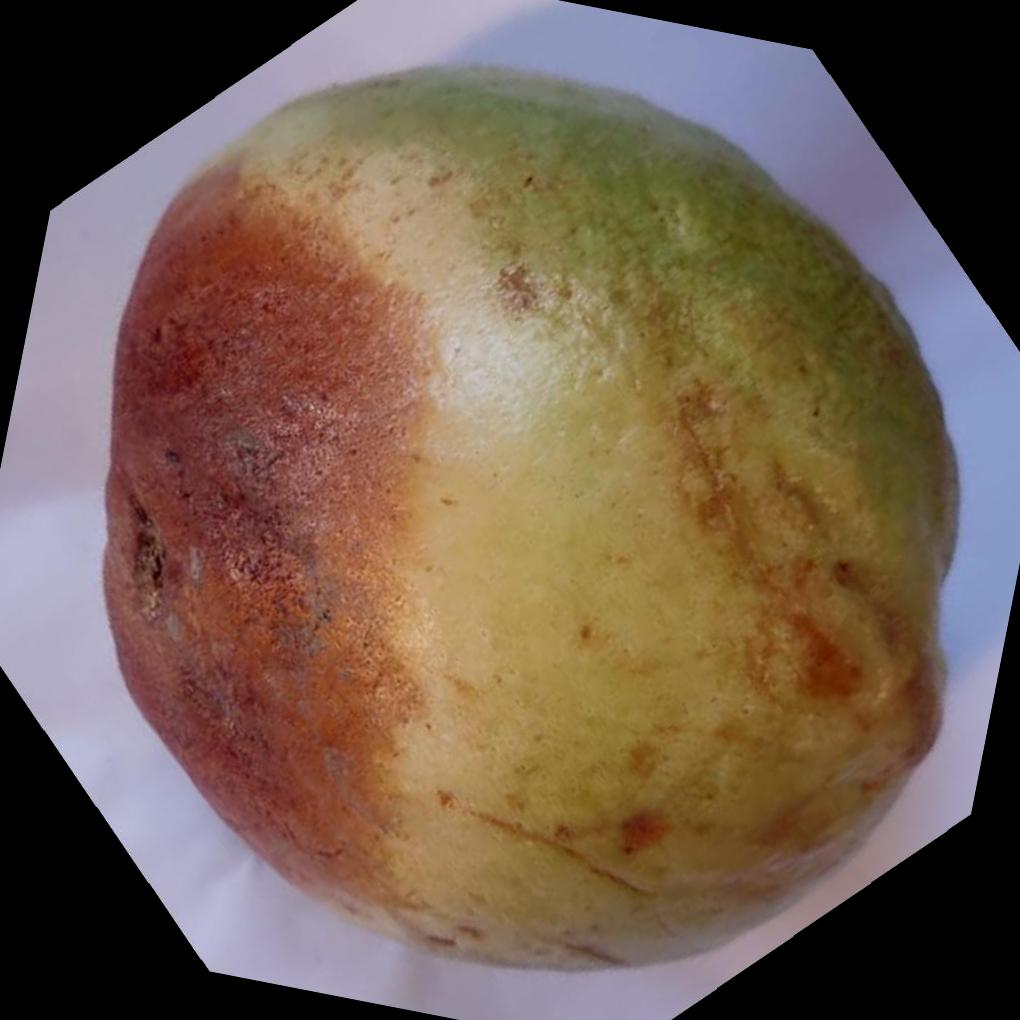FreshOrange: (91, 58, 958, 974)
